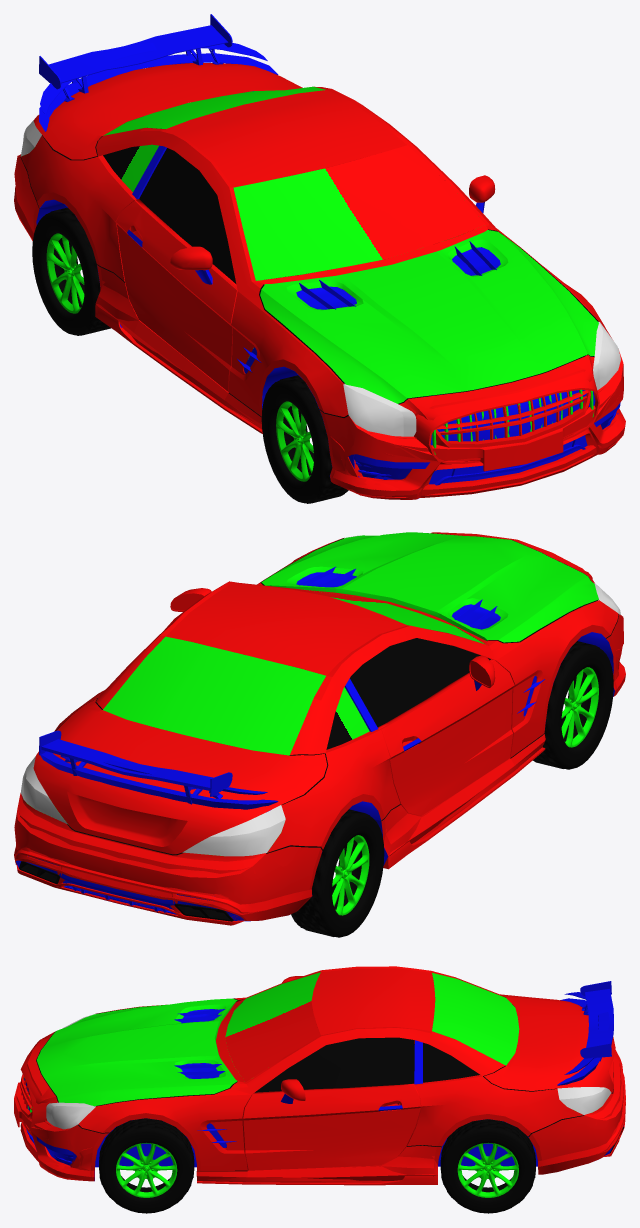
Rendered from roadster-lod0.glb.
The picture shows the model from 3 angles, top to bottom: view 1: azimuth 30°, elevation 25°; view 2: azimuth 150°, elevation 25°; view 3: azimuth 270°, elevation 25°; orthographic projection. The views are drawn at different scales.
Parts seen in each view (by area): view 1: body, glass_a, bumper_front_a, door_r_front, Wheel.003, bumper_front_b, Wheel.002, glass_door_r, spoiler_c, bumper_front_c, glass_c, spoiler_a (+4 smaller); view 2: body, glass_c, door_r_front, bumper_rear_a, Wheel.002, bumper_rear_c, Wheel.003, glass_door_r, bumper_rear_b, spoiler_c, spoiler_a, skirt_a (+5 smaller); view 3: body, door_l_front, Wheel, Wheel.001, glass_a, glass_door_l, glass_c, bumper_front_a, bumper_rear_a, bumper_rear_c, skirt_a, spoiler_c (+7 smaller).
Part boxes in pixels (x1=…): body: x1=20, y1=63, x2=620, y2=498; glass_a: x1=233, y1=145, x2=485, y2=280; bumper_front_a: x1=328, y1=355, x2=625, y2=499; door_r_front: x1=116, y1=199, x2=237, y2=391; Wheel.003: x1=261, y1=375, x2=348, y2=503; bumper_front_b: x1=319, y1=352, x2=625, y2=497; Wheel.002: x1=32, y1=207, x2=110, y2=335; glass_door_r: x1=139, y1=148, x2=236, y2=283; spoiler_c: x1=39, y1=14, x2=232, y2=93; bumper_front_c: x1=319, y1=356, x2=624, y2=499; glass_c: x1=103, y1=86, x2=325, y2=135; spoiler_a: x1=39, y1=53, x2=278, y2=131; body: x1=19, y1=532, x2=620, y2=921; glass_c: x1=103, y1=636, x2=325, y2=755; door_r_front: x1=378, y1=655, x2=514, y2=816; bumper_rear_a: x1=14, y1=800, x2=322, y2=924; Wheel.002: x1=291, y1=809, x2=384, y2=937; bumper_rear_c: x1=14, y1=793, x2=322, y2=925; Wheel.003: x1=533, y1=641, x2=613, y2=769; glass_door_r: x1=350, y1=638, x2=490, y2=727; bumper_rear_b: x1=15, y1=793, x2=318, y2=924; spoiler_c: x1=39, y1=730, x2=232, y2=804; spoiler_a: x1=40, y1=751, x2=278, y2=809; skirt_a: x1=381, y1=734, x2=545, y2=856; body: x1=36, y1=966, x2=623, y2=1180; door_l_front: x1=242, y1=1079, x2=421, y2=1170; Wheel: x1=99, y1=1118, x2=194, y2=1213; Wheel.001: x1=440, y1=1119, x2=535, y2=1213; glass_a: x1=225, y1=972, x2=320, y2=1082; glass_door_l: x1=255, y1=1037, x2=414, y2=1092; glass_c: x1=432, y1=973, x2=519, y2=1065; bumper_front_a: x1=14, y1=1032, x2=108, y2=1181; bumper_rear_a: x1=529, y1=1060, x2=625, y2=1174; bumper_rear_c: x1=529, y1=1049, x2=625, y2=1169; skirt_a: x1=196, y1=1145, x2=441, y2=1180; spoiler_c: x1=580, y1=981, x2=613, y2=1061.
Size of the model in its own units: 2.39 by 1.6 by 5.3.
Materials: 8 (5 with a texture image).
